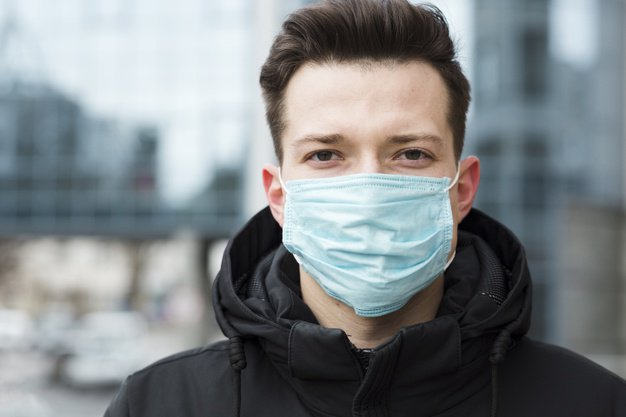mask: (247, 10, 492, 318)
